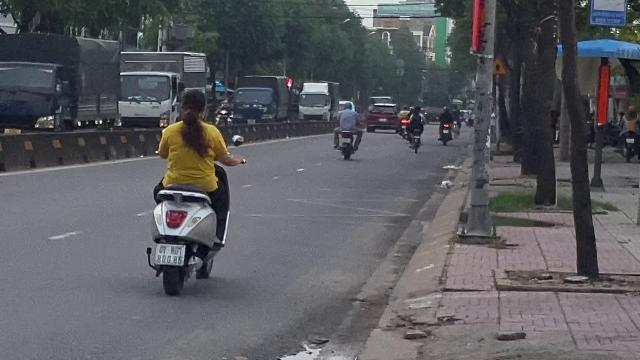licenseplate: (154, 244, 184, 264)
motorcyclist: (143, 86, 235, 296)
nohelmet: (177, 87, 207, 127)
